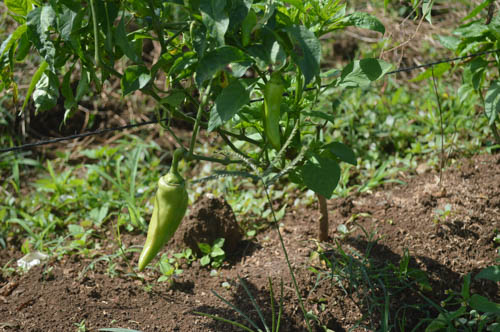ChiliPepper: (139, 181, 187, 277), (260, 85, 286, 145)
